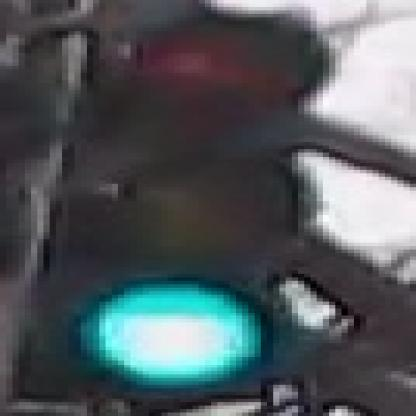Green Light: (66, 8, 298, 397)
